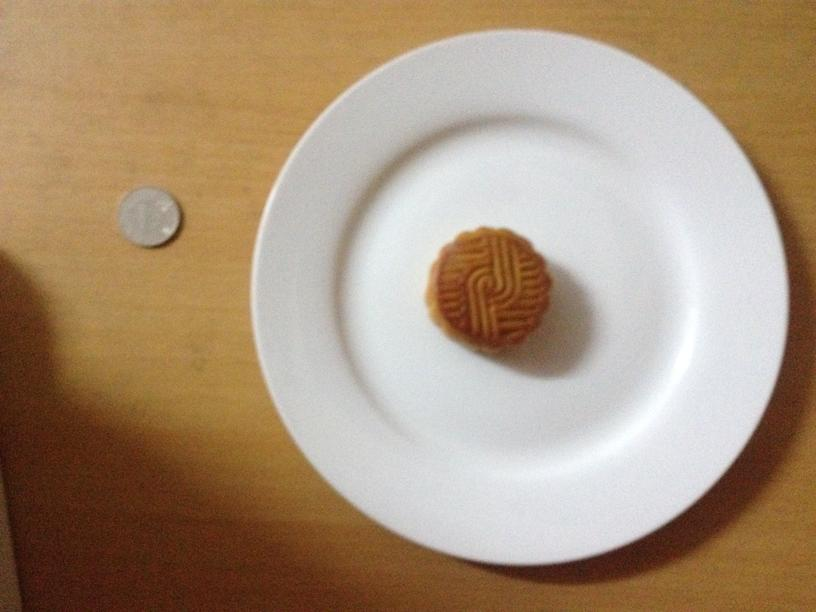coin: (113, 187, 181, 247)
mooncake: (428, 224, 549, 353)
